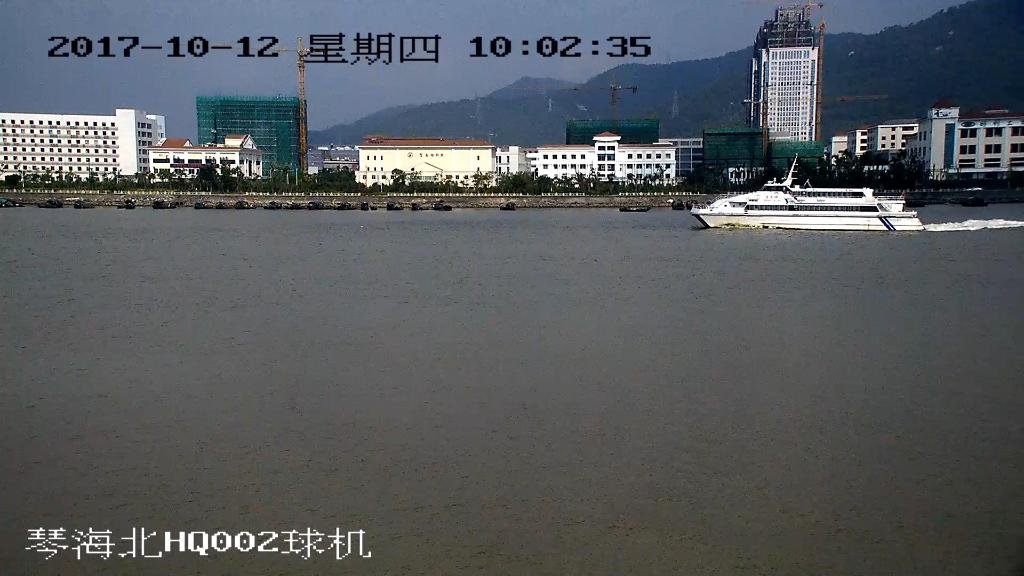PassengerShip: (686, 162, 930, 236)
